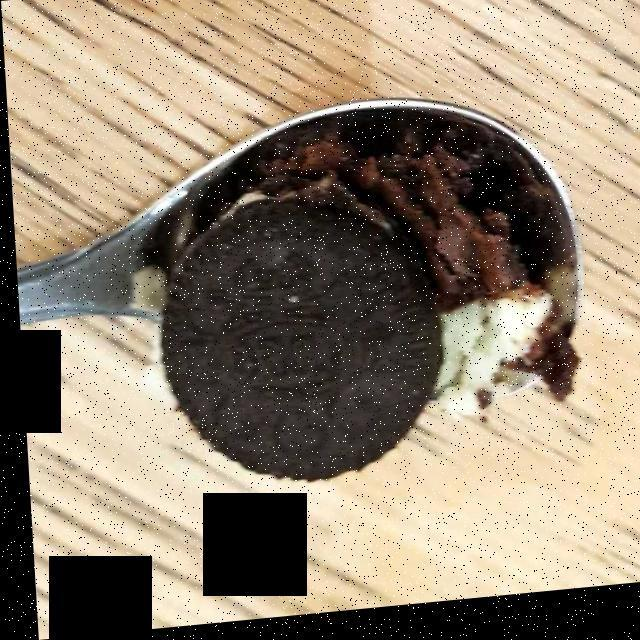tart: (254, 142, 555, 410)
